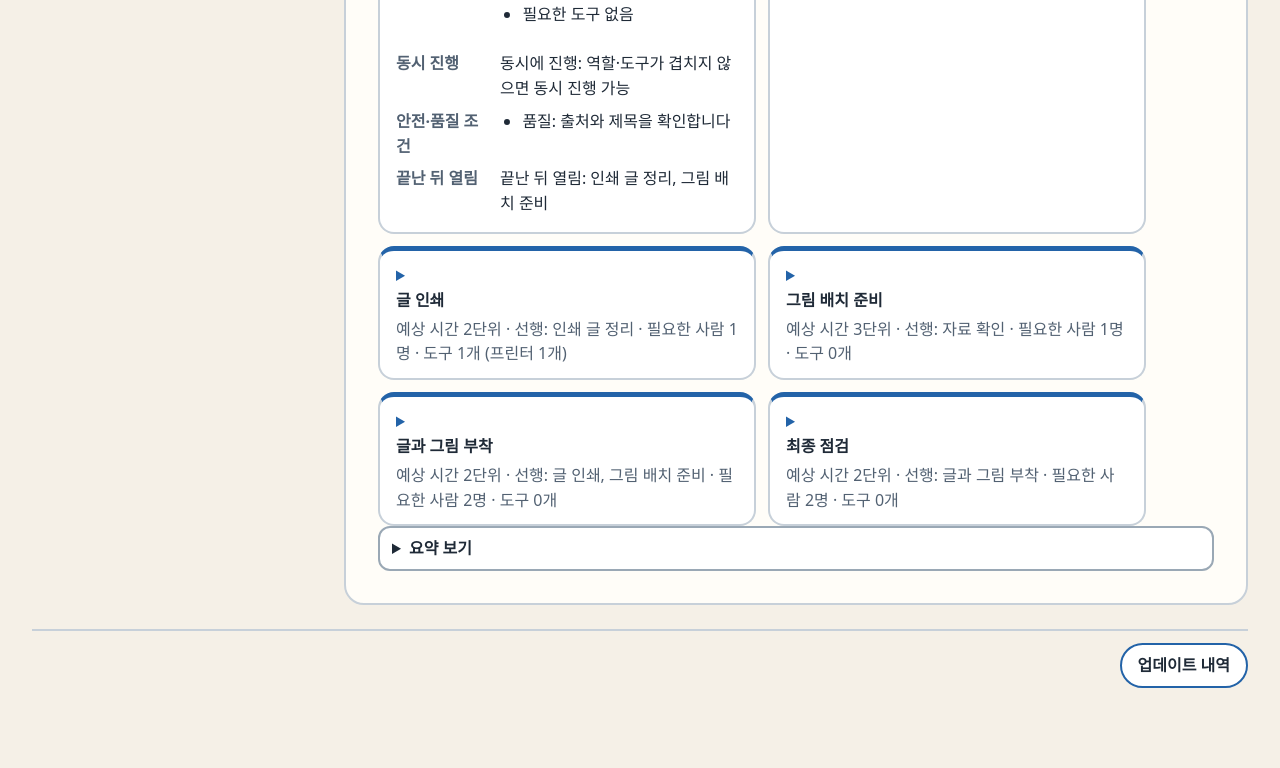
Test case: shows every task-card judgment field after opening its summary
(page scrolled)
Click the text "글과 그림 부착" at {"x": 444, "y": 446}, box [396,435,493,457]
(page scrolled)
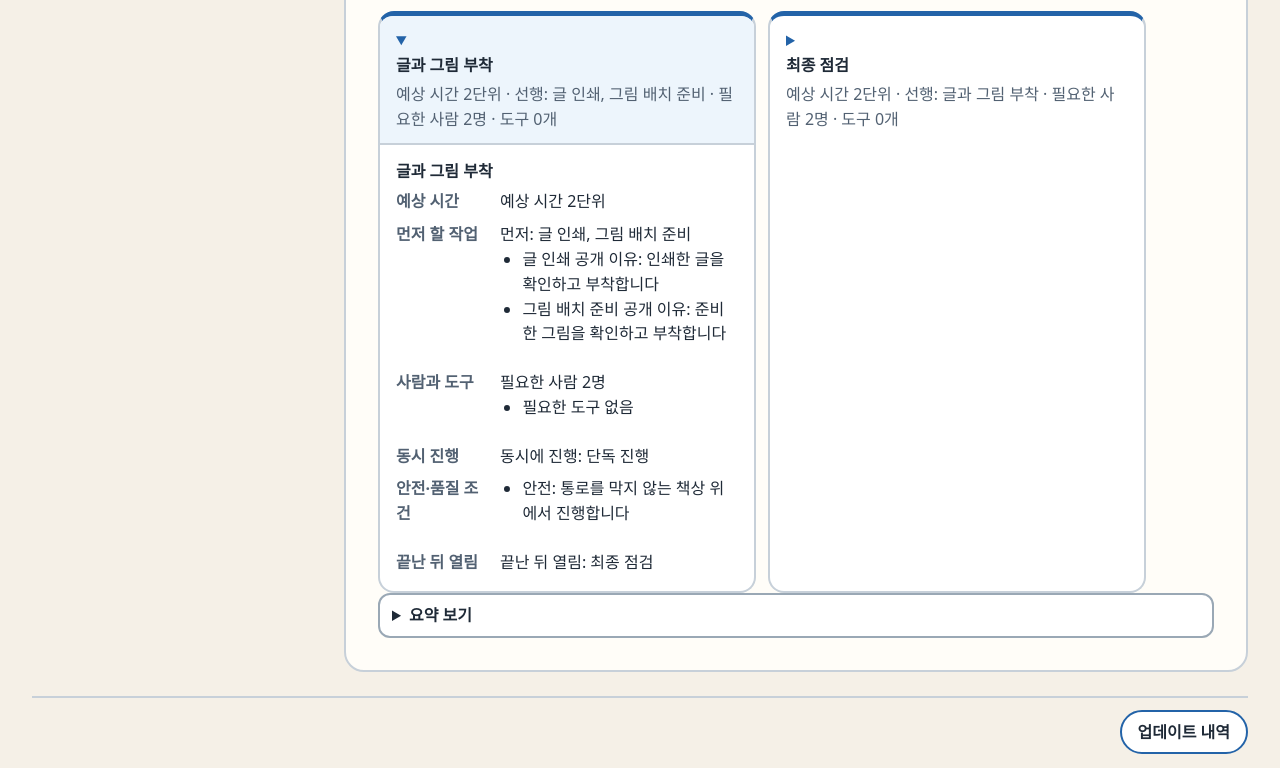
Now the text "예상 시간 2단위" is shown, box [500,190,606,212]
Now the text "먼저: 글 인쇄, 그림 배치 준비" is shown, box [500,223,691,245]
Now the text "필요한 사람 2명" is shown, box [500,371,606,393]
